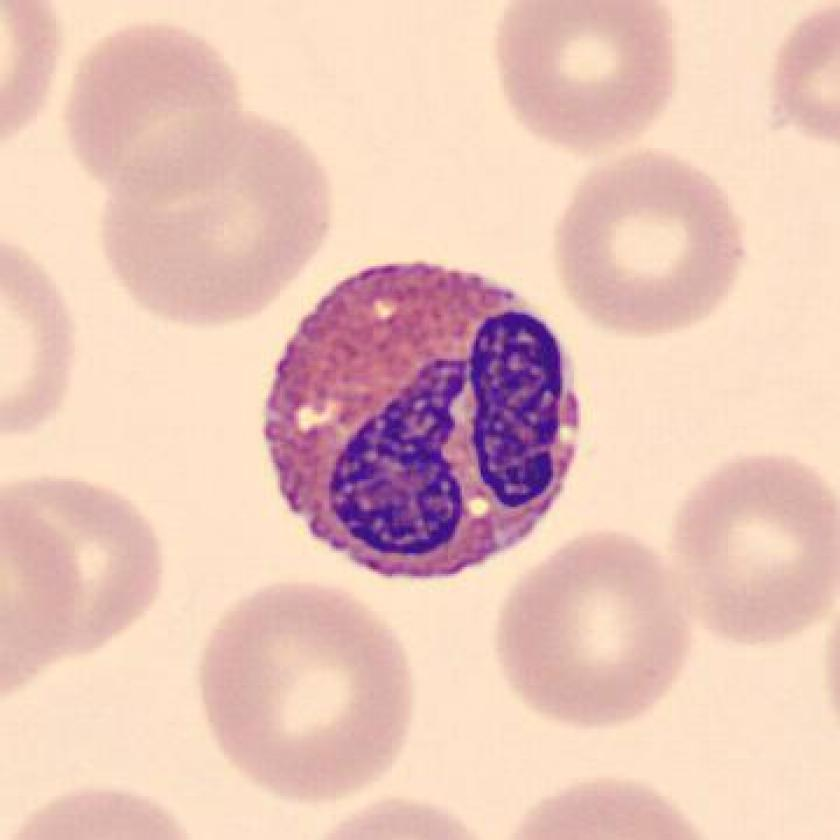eosinophil: (249, 244, 599, 598)
